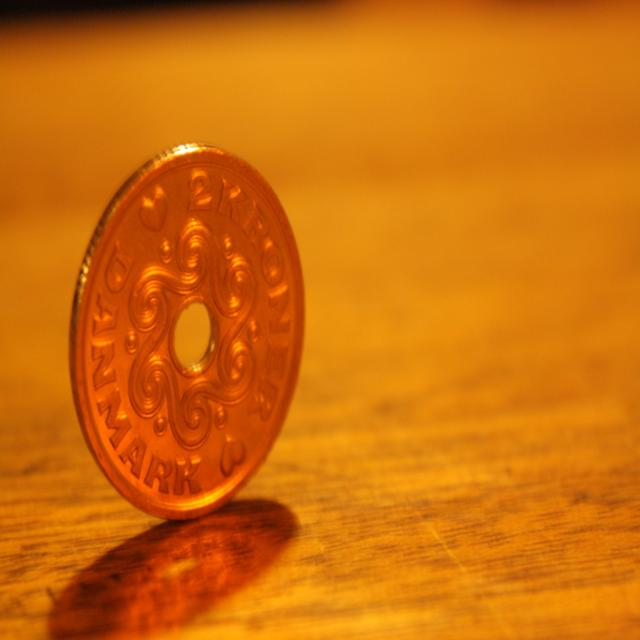Coin: (77, 141, 298, 528)
